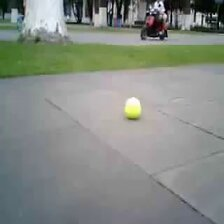tennis: (124, 97, 142, 120)
